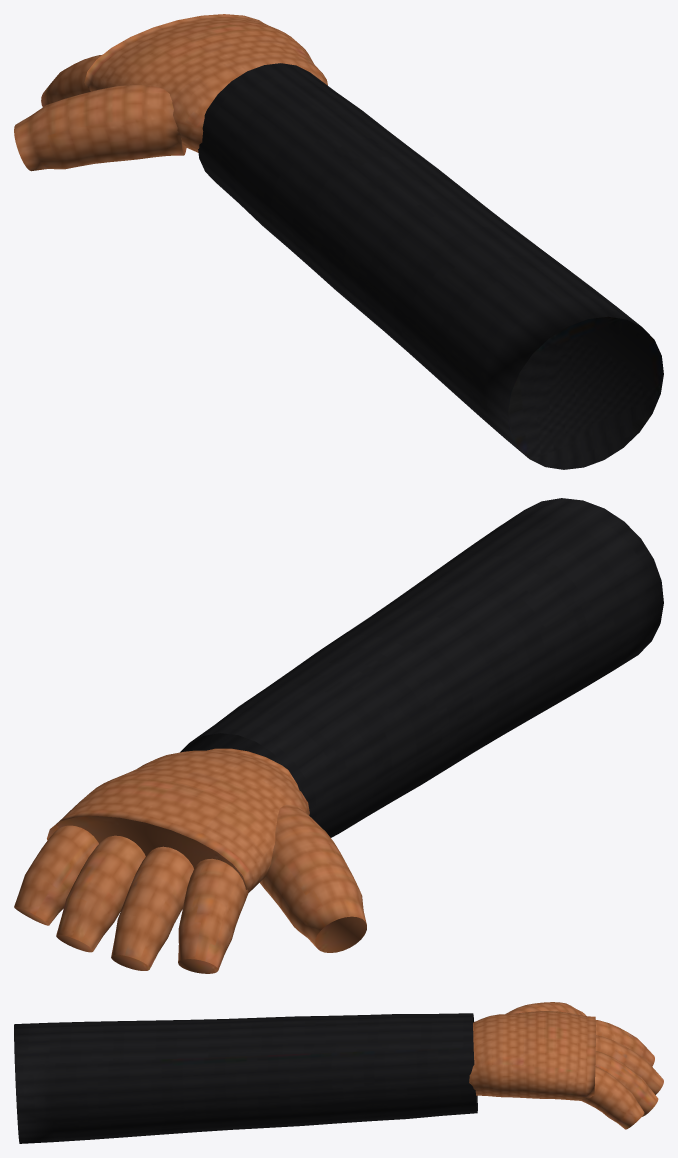
The model's file is crocheted-hand.glb.
3 views of the same model, one above another, from view 1: azimuth 30°, elevation 25°; view 2: azimuth 150°, elevation 25°; view 3: azimuth 270°, elevation 25° (orthographic). The views are drawn at different scales.
Parts seen in each view (by area): view 1: CrochetedHand; view 2: CrochetedHand; view 3: CrochetedHand.
Part boxes in pixels (x1,y1,x2,y2): CrochetedHand: (14,14,663,469); CrochetedHand: (14,498,663,973); CrochetedHand: (14,1002,663,1143).
Size of the model in its own units: 0.0999 by 0.0574 by 0.2836.
Materials: 1 (1 with a texture image).
